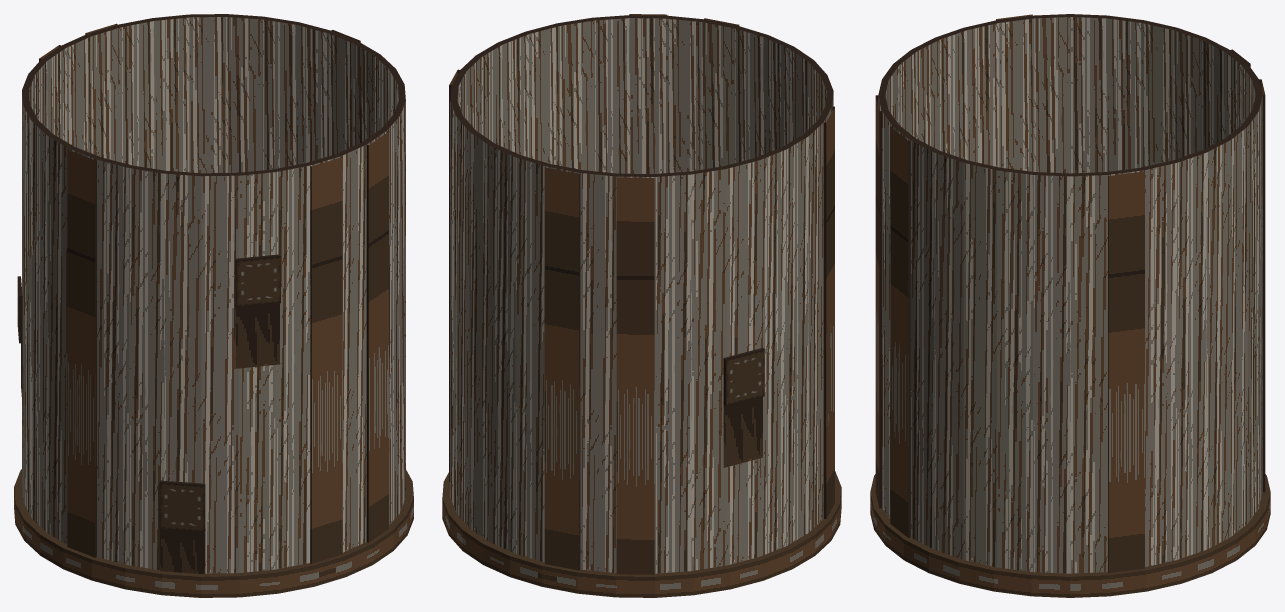
Rendered from TOR-01_Fuste_de_torre_c.gltf.
3 renders of one model, left to right at view 1: azimuth 30°, elevation 25°; view 2: azimuth 150°, elevation 25°; view 3: azimuth 270°, elevation 25°, orthographic.
Parts seen in each view (by area): view 1: TOR-01_Fuste_de_torre_c-col; view 2: TOR-01_Fuste_de_torre_c-col; view 3: TOR-01_Fuste_de_torre_c-col.
Boxes of the visible parts, x1=… form: TOR-01_Fuste_de_torre_c-col: x1=14, y1=14, x2=413, y2=597; TOR-01_Fuste_de_torre_c-col: x1=442, y1=14, x2=841, y2=597; TOR-01_Fuste_de_torre_c-col: x1=870, y1=14, x2=1270, y2=597.
Bounding box in the file's own units: 5.21 × 6 × 5.21.
Materials: 1 (1 with a texture image).
